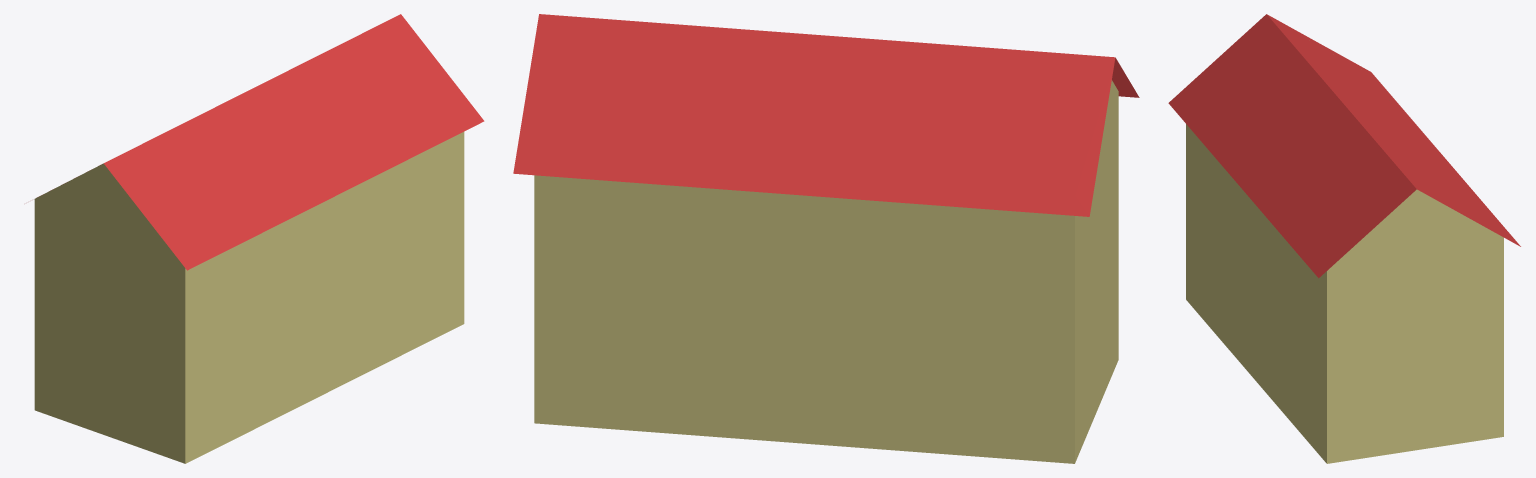
3 views of the same model, side by side, from view 1: azimuth 30°, elevation 25°; view 2: azimuth 150°, elevation 25°; view 3: azimuth 270°, elevation 25° (orthographic). The views are drawn at different scales.
Visible parts, largest first — view 1: group_5, group_3, group_4; view 2: group_5, group_3, group_4; view 3: group_5, group_3, group_4.
Boxes of the visible parts, left/top/right/bottom form: group_5: left=34, top=132, right=464, bottom=463; group_3: left=37, top=14, right=484, bottom=251; group_4: left=104, top=14, right=481, bottom=270; group_5: left=534, top=80, right=1118, bottom=463; group_3: left=513, top=14, right=1139, bottom=216; group_4: left=864, top=56, right=1115, bottom=216; group_5: left=1186, top=124, right=1503, bottom=463; group_3: left=1186, top=14, right=1520, bottom=277; group_4: left=1168, top=14, right=1416, bottom=276.
Bounding box in the file's own units: 26.67 × 19.29 × 16.08.
